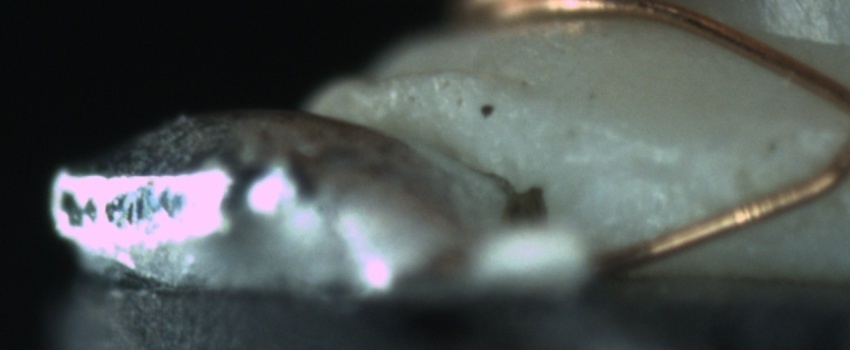DL: (564, 138, 717, 197)
